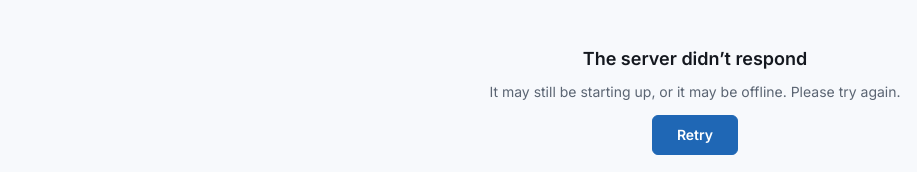
Test case: WakeGate › Retry starts again and can succeed
The width and height of the screenshot is (917, 172).
Click the button "Retry" at (695, 135), box [652,115,738,155]
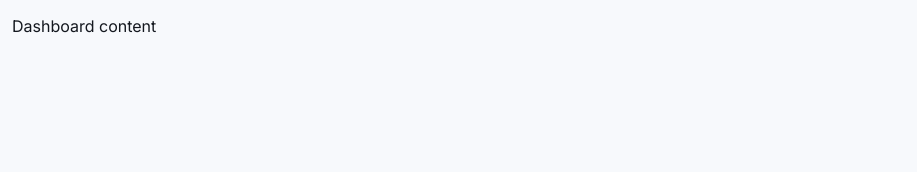
Expected: the text "Dashboard content" is shown, [12,16,156,36]
